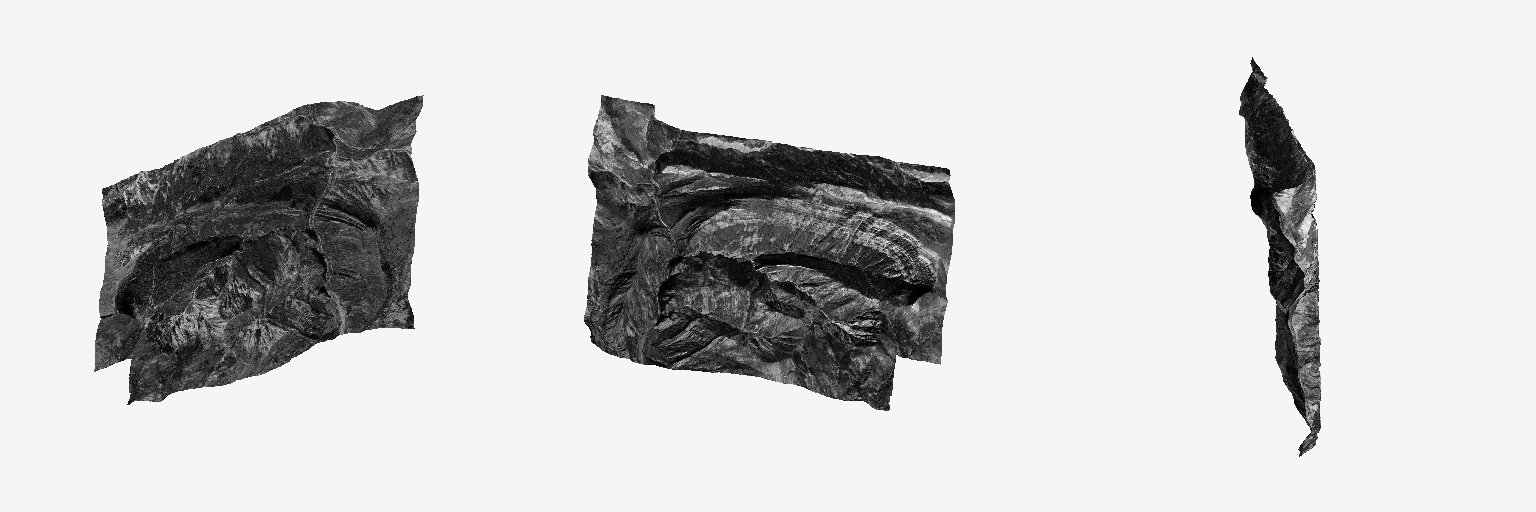
The picture shows the model from 3 angles: view 1: azimuth 30°, elevation 25°; view 2: azimuth 150°, elevation 25°; view 3: azimuth 270°, elevation 25°; orthographic projection.
Bounding box in the file's own units: 3877 × 2695 × 823.
1 materials, 1 textured.